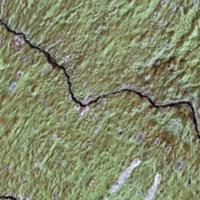crack: (0, 10, 199, 146)
